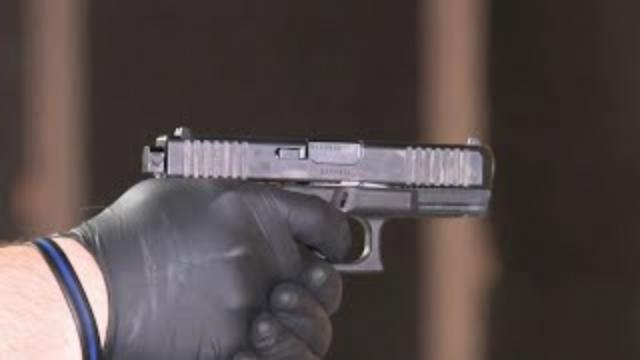handgun: (134, 122, 502, 286)
